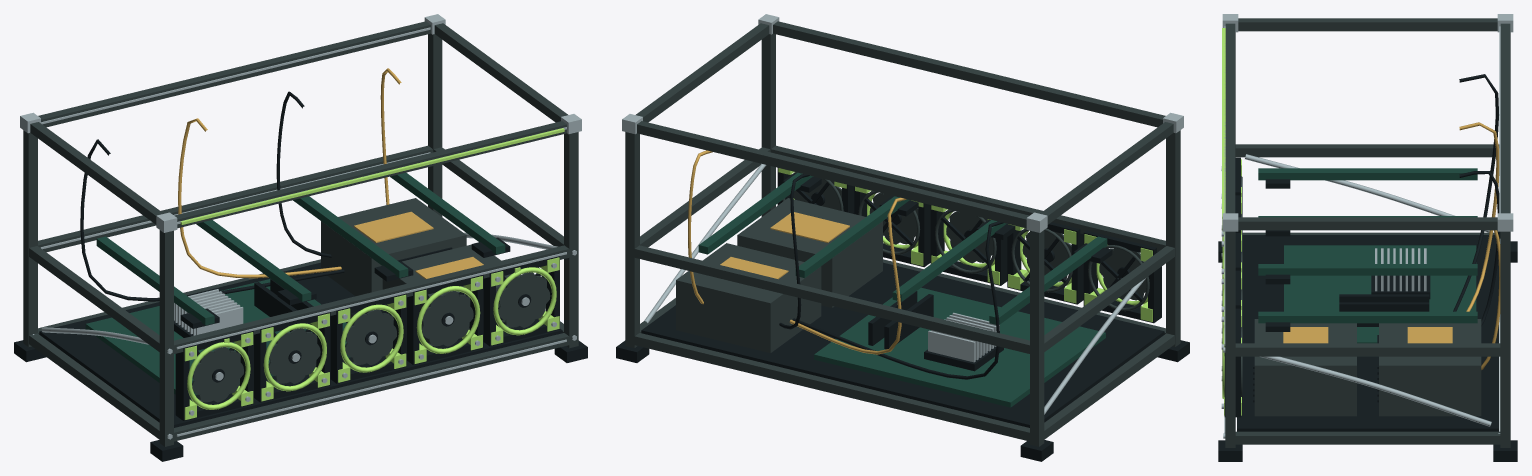
File: rig-gameplay.glb
3 renders of one model, left to right at view 1: azimuth 30°, elevation 25°; view 2: azimuth 150°, elevation 25°; view 3: azimuth 270°, elevation 25°, orthographic.
Visible parts, largest first — view 1: Anodized graphite (×6), Rubber and ABS (×6), Circuit board, Lime accents (×5), Brushed aluminium, Contacts, rig-gameplay, slot-cable-1, slot-cable-2, slot-cable-3; view 2: Anodized graphite (×6), Rubber and ABS (×5), Circuit board, Brushed aluminium, Lime accents (×3), Contacts, slot-cable-1, slot-cable-2, slot-cable-3; view 3: Anodized graphite, Rubber and ABS (×2), Circuit board, Brushed aluminium, Contacts, slot-cable-1, slot-cable-2, rig-gameplay, slot-cable-3, slot-cable-4.
Part boxes in pixels (<box>): Anodized graphite (×6): <box>23,21,578,446</box>; Rubber and ABS (×6): <box>14,237,587,461</box>; Circuit board: <box>85,172,505,394</box>; Lime accents (×5): <box>184,257,559,419</box>; Brushed aluminium: <box>20,14,581,439</box>; Contacts: <box>354,211,483,279</box>; rig-gameplay: <box>180,128,564,224</box>; slot-cable-1: <box>80,139,344,301</box>; slot-cable-2: <box>178,118,341,278</box>; slot-cable-3: <box>276,91,331,257</box>; Anodized graphite (×6): <box>625,21,1180,446</box>; Rubber and ABS (×5): <box>616,172,1189,461</box>; Circuit board: <box>698,172,1107,407</box>; Brushed aluminium: <box>622,14,1183,414</box>; Lime accents (×3): <box>931,205,1152,322</box>; Contacts: <box>720,212,849,279</box>; slot-cable-1: <box>792,221,1003,379</box>; slot-cable-2: <box>789,197,906,354</box>; slot-cable-3: <box>779,174,809,329</box>; Anodized graphite: <box>1225,18,1510,447</box>; Rubber and ABS (×2): <box>1218,179,1517,461</box>; Circuit board: <box>1258,168,1477,343</box>; Brushed aluminium: <box>1222,14,1513,438</box>; Contacts: <box>1283,327,1452,343</box>; slot-cable-1: <box>1453,74,1498,311</box>; slot-cable-2: <box>1459,122,1499,311</box>; rig-gameplay: <box>1222,28,1225,218</box>; slot-cable-3: <box>1459,171,1500,326</box>; slot-cable-4: <box>1481,230,1500,369</box>.
Size of the model in its own units: 6.06 by 3.24 by 3.66.
